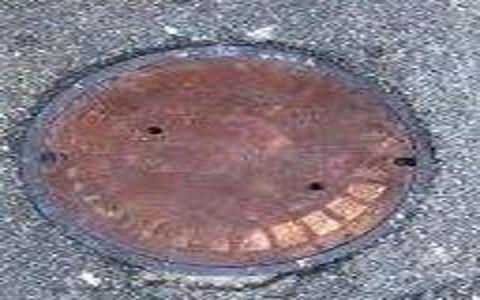proper manhole: (15, 33, 438, 278)
